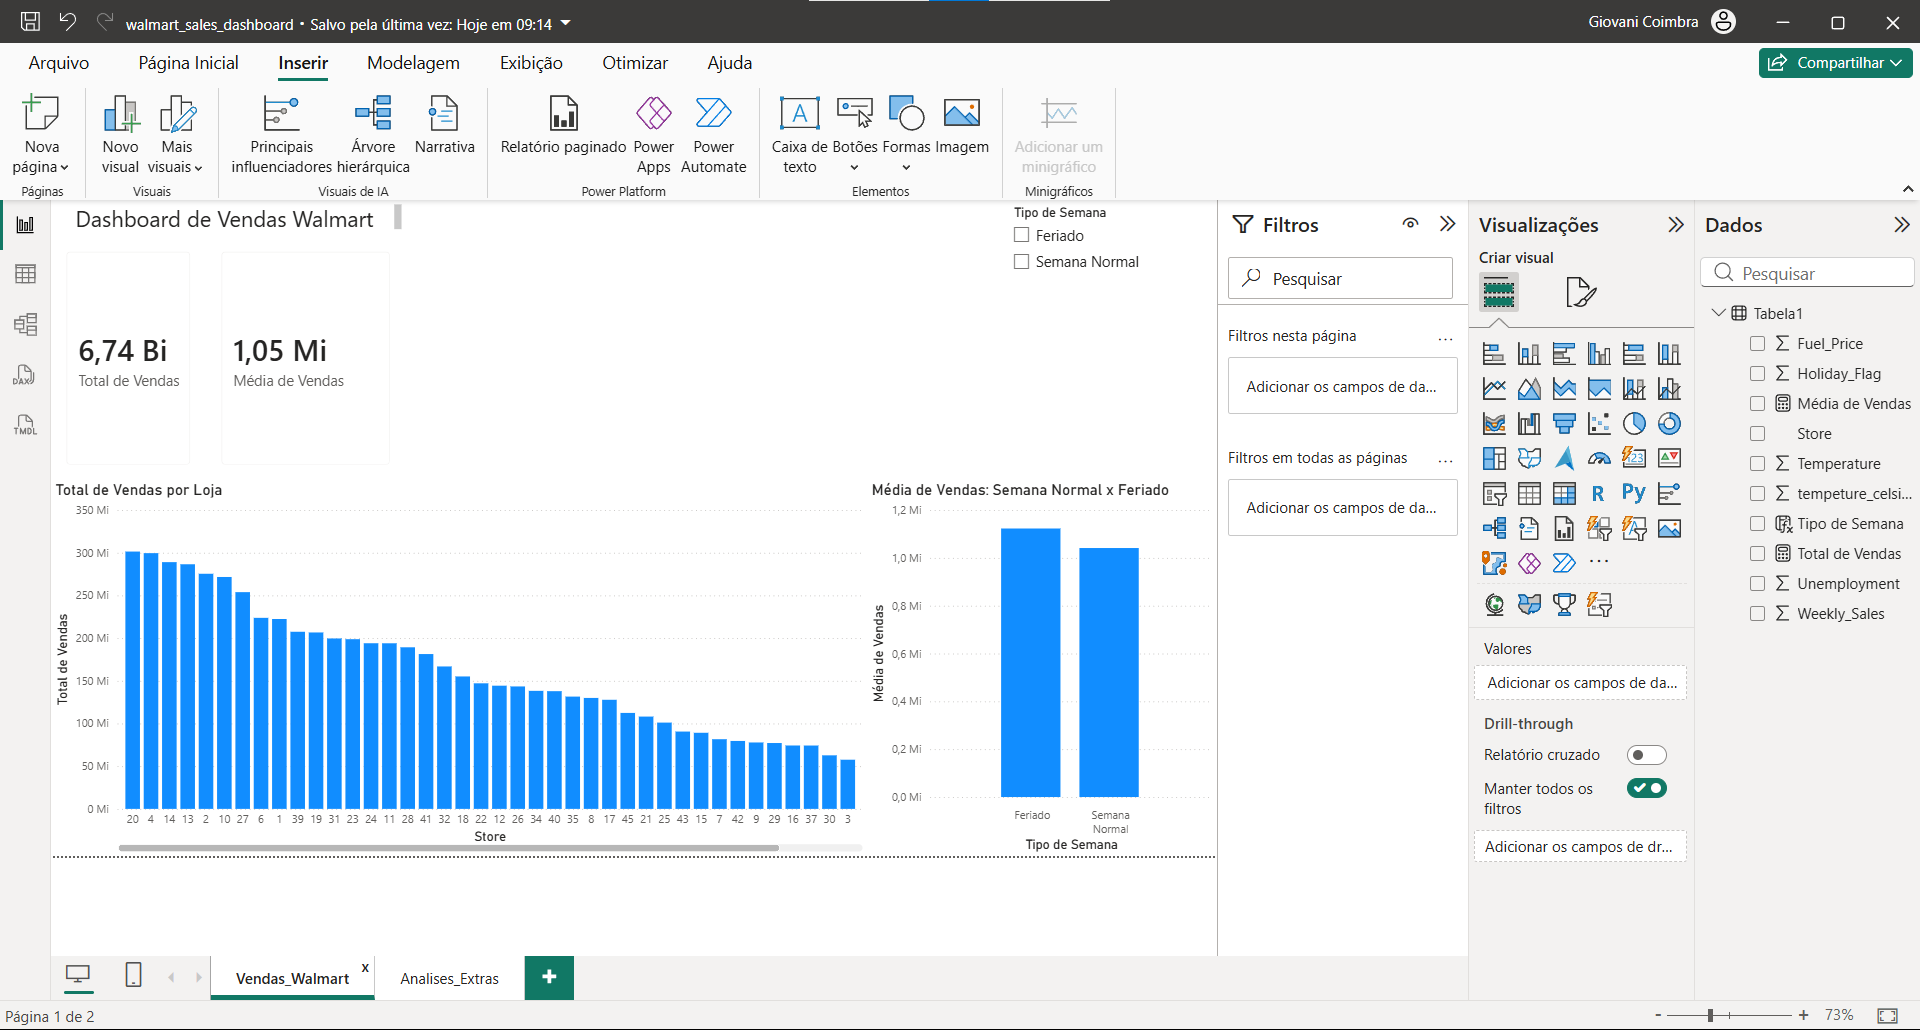

This screenshot's page, from the dashboard's own definition file:
{"tool":"powerbi","page":{"name":"Vendas_Walmart","canvas":[1280,720],"ordinal":0},"visuals":[{"type":"cardVisual","fields":{"Data":["Tabela1.Total de Vendas"]},"box":[0,39.8,170.2,269],"z":0},{"type":"cardVisual","fields":{"Data":["Tabela1.Média de Vendas"]},"box":[170.2,39.8,219.6,269],"z":1000},{"type":"columnChart","title":"Total de Vendas por Loja","fields":{"Category":["Tabela1.Store"],"Y":["Tabela1.Total de Vendas"]},"box":[0,307.4,896.1,413],"z":2000},{"type":"slicer","fields":{"Values":["Tabela1.Tipo de Semana"]},"box":[1044.3,0,236,200.3],"z":3000},{"type":"columnChart","title":"Média de Vendas: Semana Normal x Feriado","fields":{"Y":["Tabela1.Média de Vendas"],"Category":["Tabela1.Tipo de Semana"]},"box":[896.1,307.4,384.2,413],"z":4000},{"type":"textbox","box":[0,0,389.7,39.8],"z":5000}]}

Visuals, with their boxes on the page's 1280x720 design canvas (x1, y1, x2, y2). These are canvas units, not pixel positions in the 1920x1030 screenshot, which may show the page scaled, cropped or inside an application window:
cardVisual - Tabela1.Total de Vendas: box(0, 40, 170, 309)
cardVisual - Tabela1.Média de Vendas: box(170, 40, 390, 309)
"Total de Vendas por Loja" columnChart: box(0, 307, 896, 720)
slicer - Tabela1.Tipo de Semana: box(1044, 0, 1280, 200)
"Média de Vendas: Semana Normal x Feriado" columnChart: box(896, 307, 1280, 720)
textbox: box(0, 0, 390, 40)
